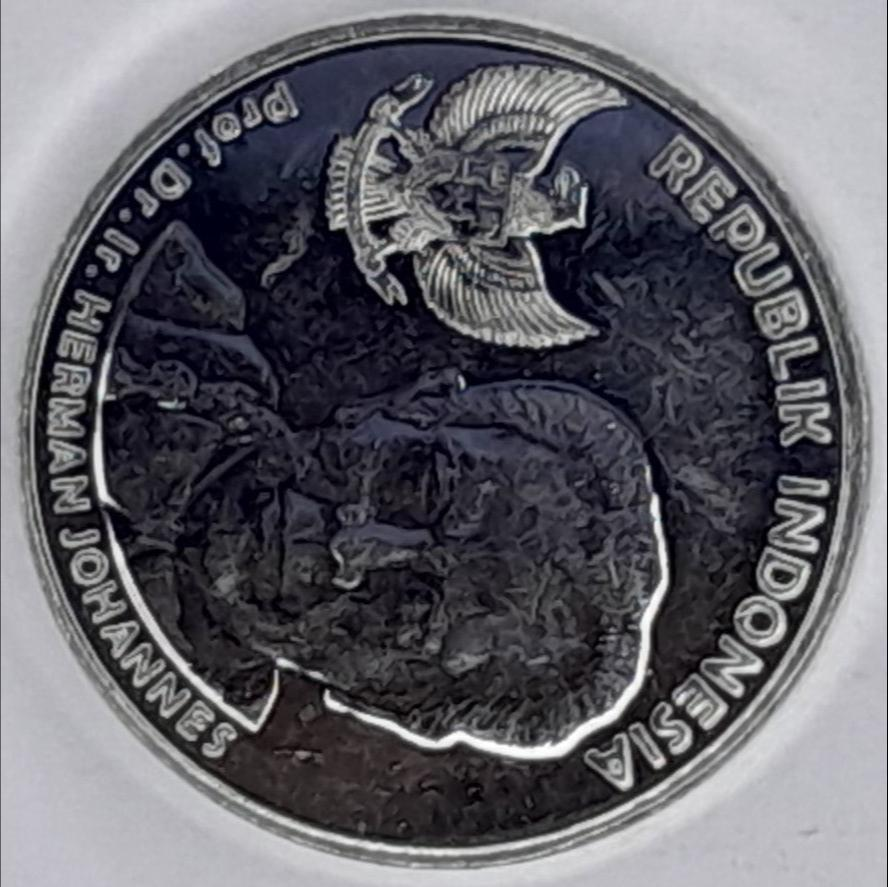coin_100_e2016: (13, 6, 869, 870)
